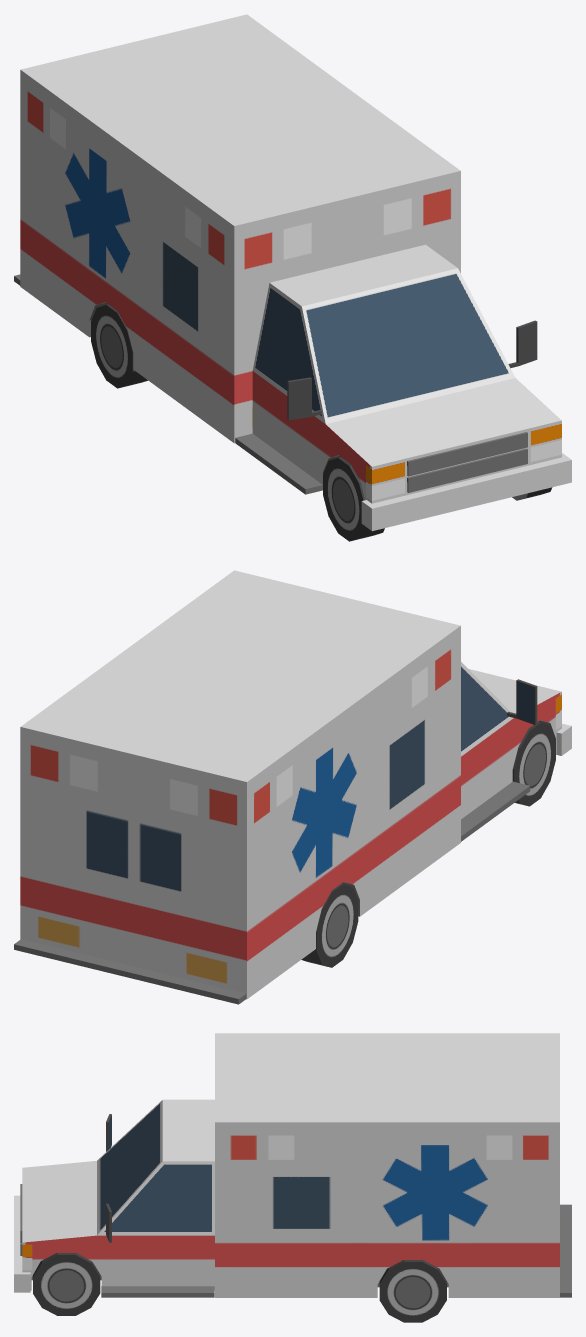
The model's file is Ambulance.fbx.
3 views of the same model, one above another, from view 1: azimuth 30°, elevation 25°; view 2: azimuth 150°, elevation 25°; view 3: azimuth 270°, elevation 25° (orthographic). The views are drawn at different scales.
Parts seen in each view (by area): view 1: Ambulance; view 2: Ambulance; view 3: Ambulance.
Part boxes in pixels (x1=…): Ambulance: x1=14, y1=14, x2=571, y2=541; Ambulance: x1=14, y1=570, x2=571, y2=1004; Ambulance: x1=14, y1=1033, x2=571, y2=1322.
Bounding box in the file's own units: 283 × 270 × 681.
